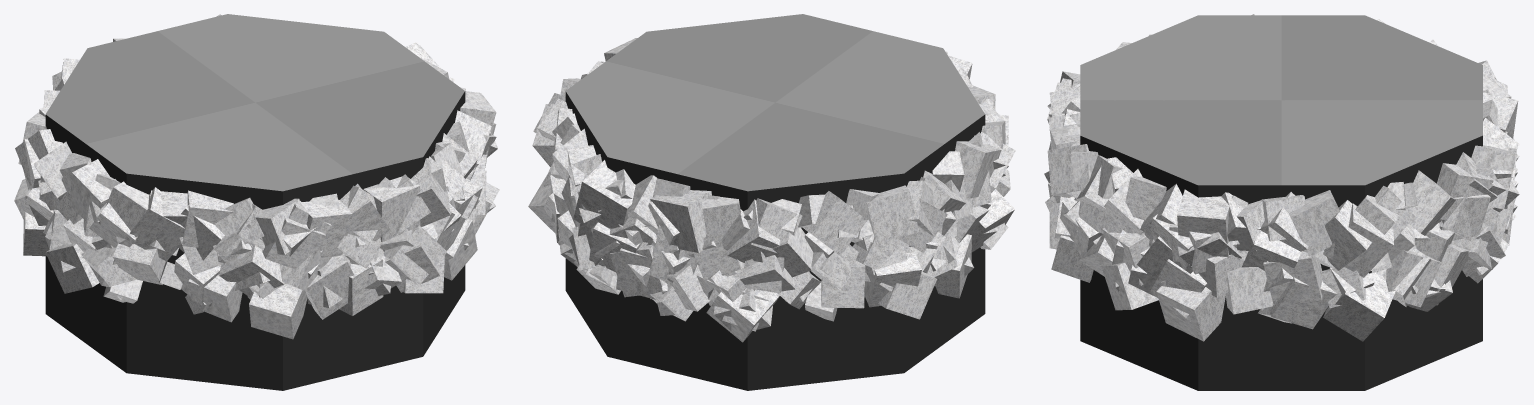
File: Map_02.fbx
3 views of the same model, side by side, from view 1: azimuth 30°, elevation 25°; view 2: azimuth 150°, elevation 25°; view 3: azimuth 270°, elevation 25° (orthographic). The views are drawn at different scales.
Visible parts, largest first — view 1: Map_02; view 2: Map_02; view 3: Map_02.
Part boxes in pixels (<box>): Map_02: <box>14,14,499,390</box>; Map_02: <box>528,14,1015,390</box>; Map_02: <box>1044,14,1519,390</box>.
Bounding box in the file's own units: 5920 × 2810 × 5897.
